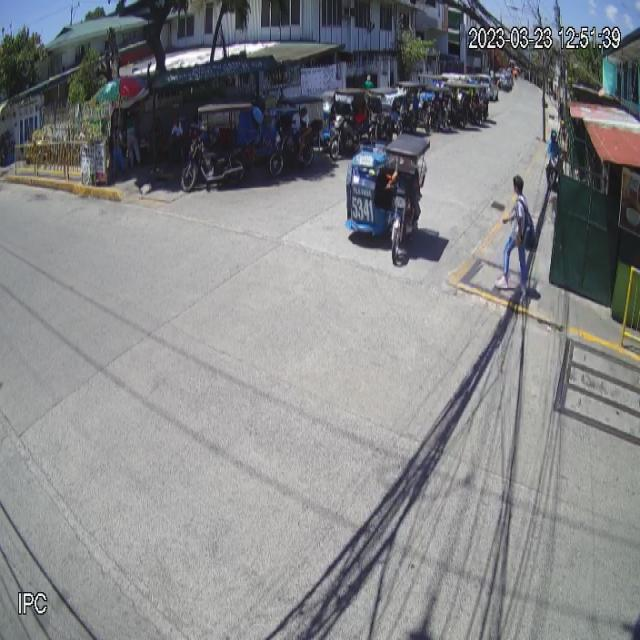Tricycle: (346, 133, 430, 265)
